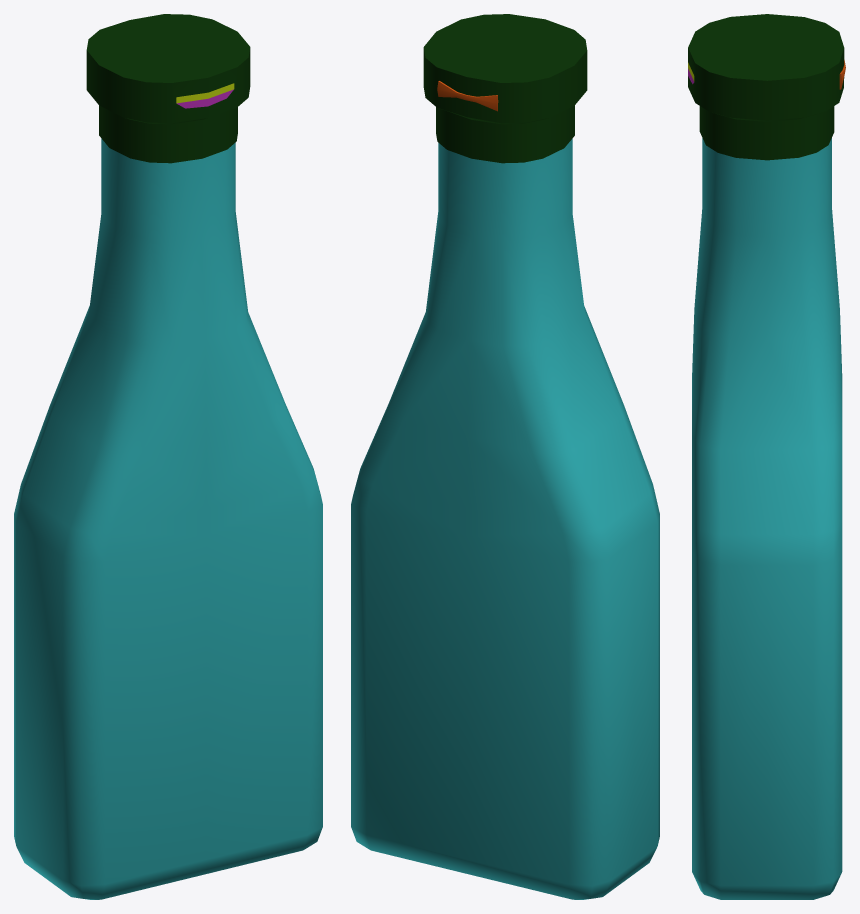
The model's file is CondensedMilk.fbx.
3 renders of one model, left to right at view 1: azimuth 30°, elevation 25°; view 2: azimuth 150°, elevation 25°; view 3: azimuth 270°, elevation 25°, orthographic.
Visible parts, largest first — view 1: Condensed_milk; view 2: Condensed_milk; view 3: Condensed_milk.
Part boxes in pixels (x1,y1,x2,y2): Condensed_milk: (14, 14, 322, 899); Condensed_milk: (351, 14, 659, 899); Condensed_milk: (688, 14, 845, 899).
Size of the model in its own units: 9.86 by 29.59 by 5.28.
